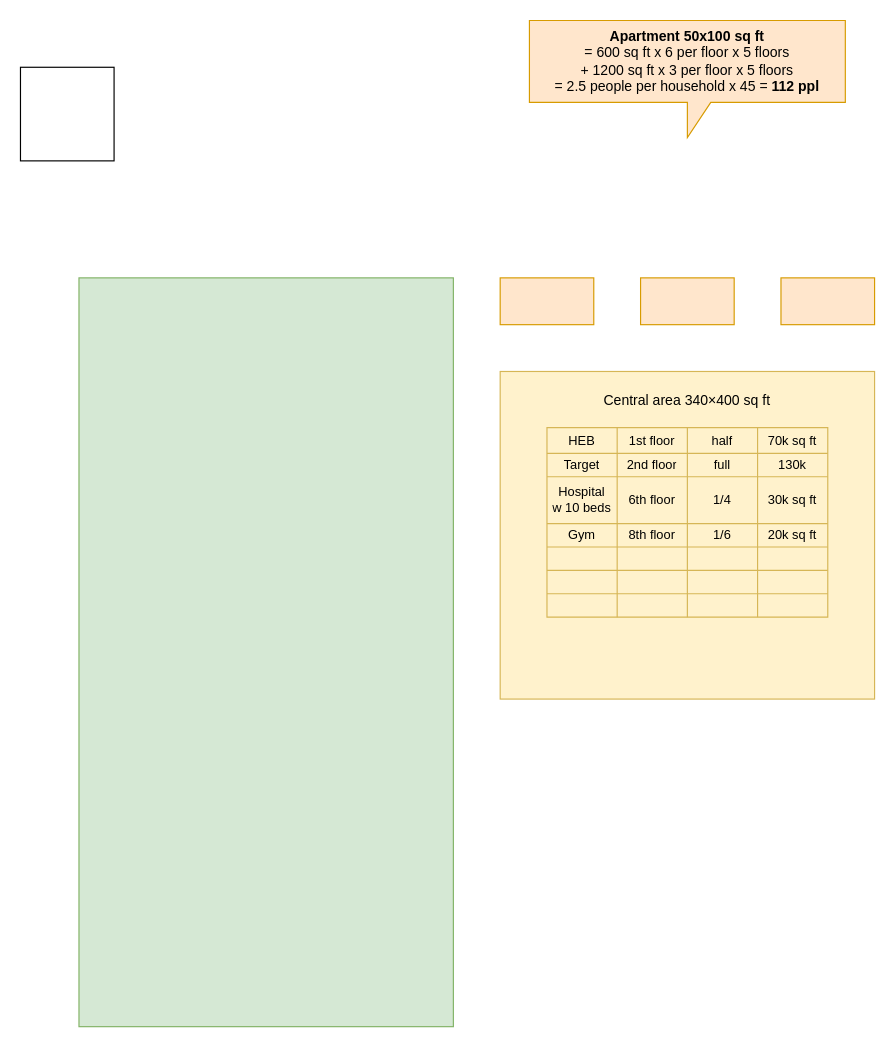
The diagram is 895 pixels wide and 1047 high, and some of its shapes have lost their labels. The centre of each missing label's shape, as x and y in pixels:
100 ft x 100 ft: point (66, 113)
Park 400×800 sq ft: point (265, 652)
